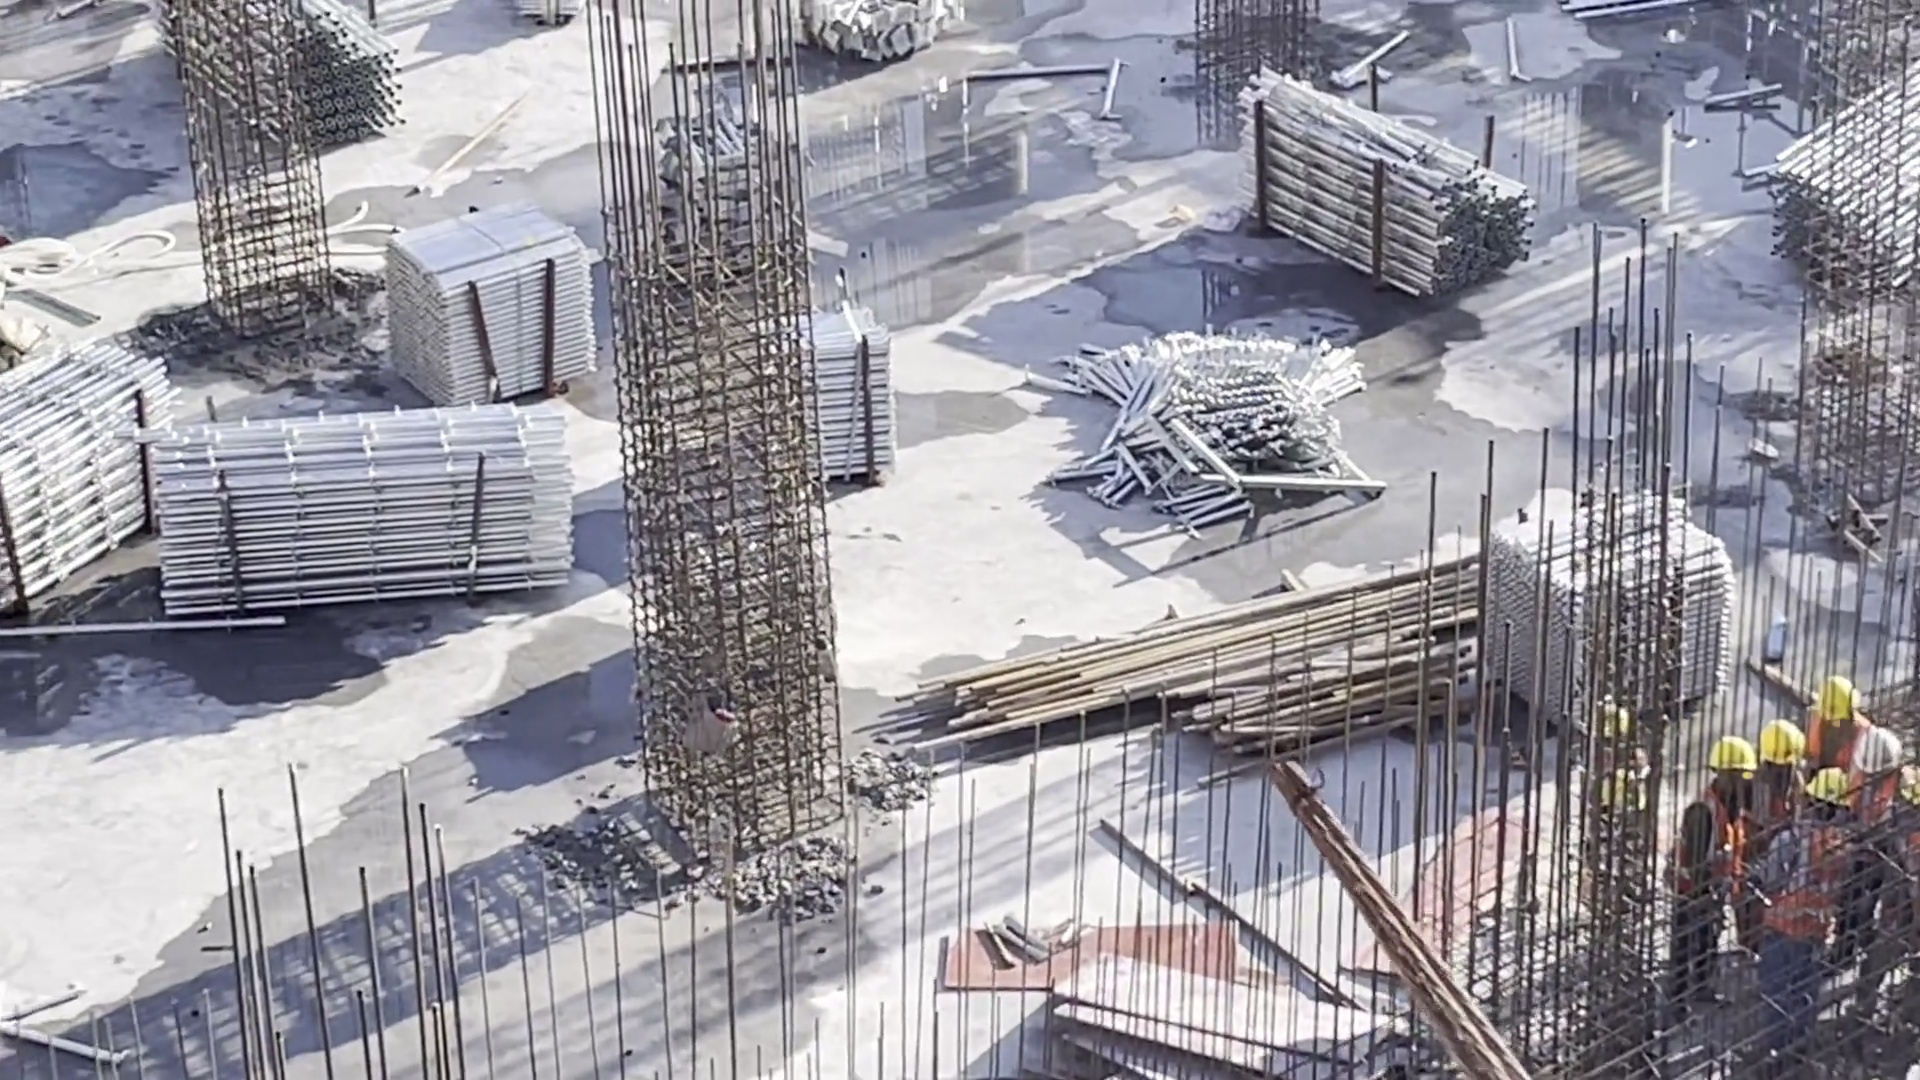helmet: (1856, 729, 1901, 773), (1699, 742, 1757, 777), (1755, 724, 1802, 762), (1811, 681, 1859, 716), (1811, 773, 1850, 810)
person: (1754, 763, 1862, 1049), (1663, 722, 1759, 985), (1726, 716, 1803, 968), (1834, 728, 1914, 866), (1792, 669, 1857, 769)
vest: (1689, 793, 1751, 888), (1777, 832, 1835, 930), (1811, 720, 1868, 791), (1856, 779, 1895, 827), (1756, 782, 1796, 828)
